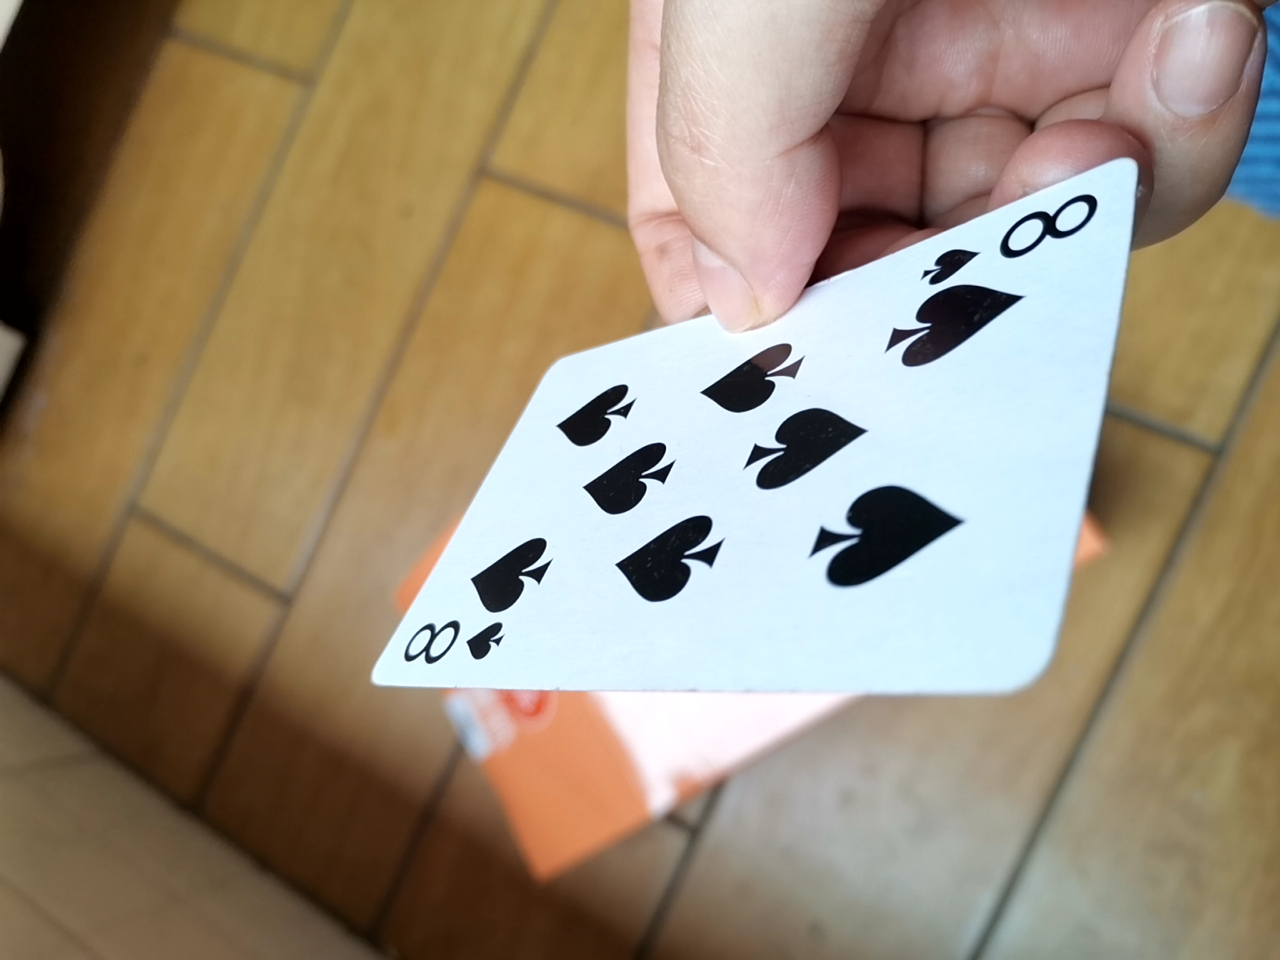ht 8: (362, 186, 1127, 772)
